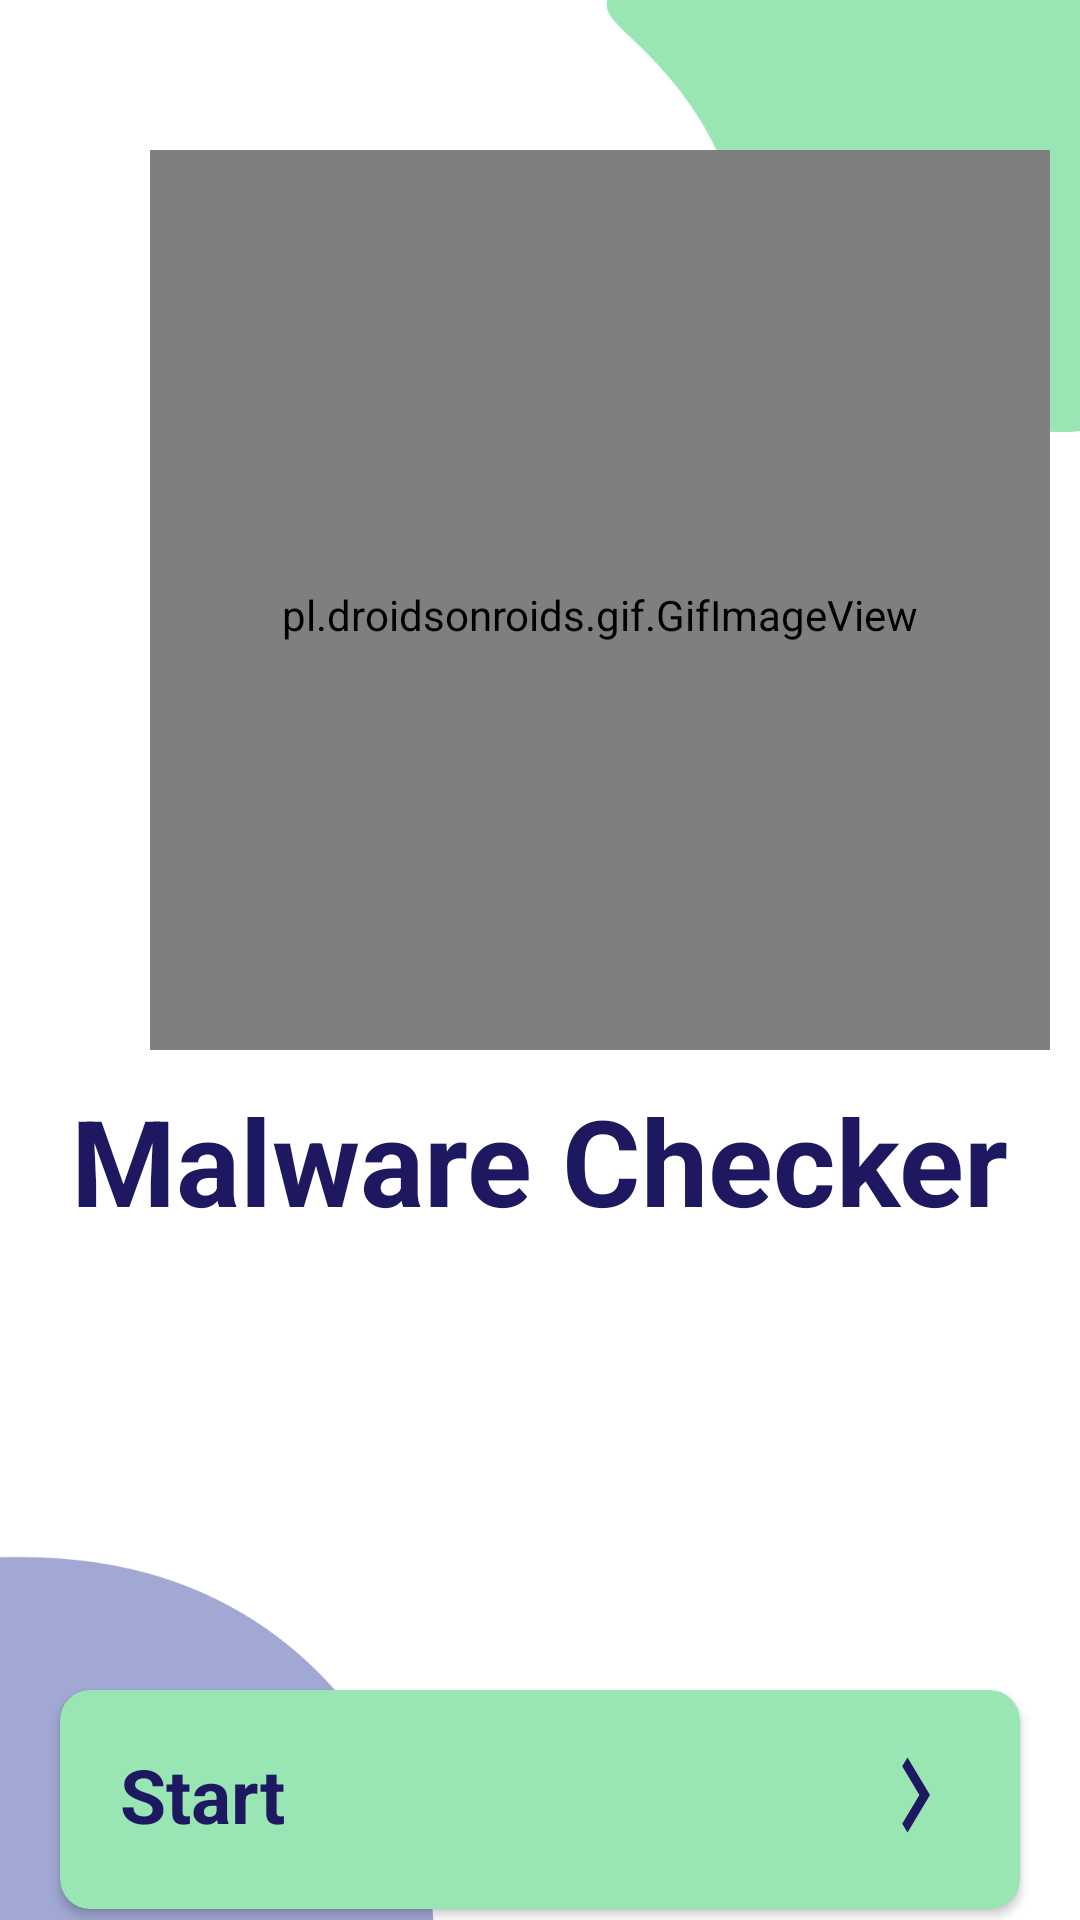

Icons on this 1080w x 1920h Android screen, each with the point to tap as (x,y):
navigate next: (916,1795)
